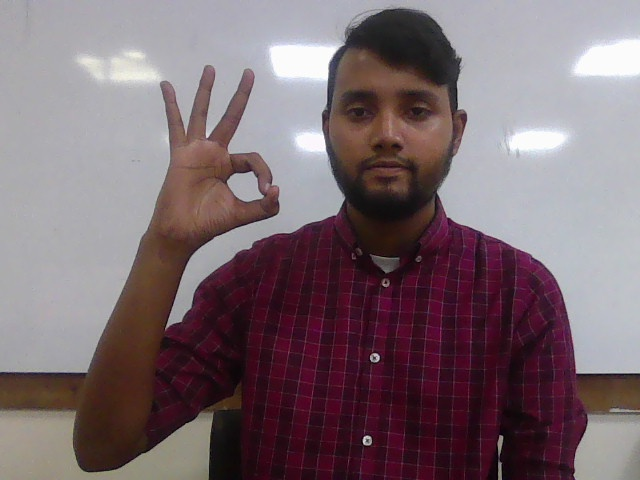Shundor: (153, 63, 281, 242)
